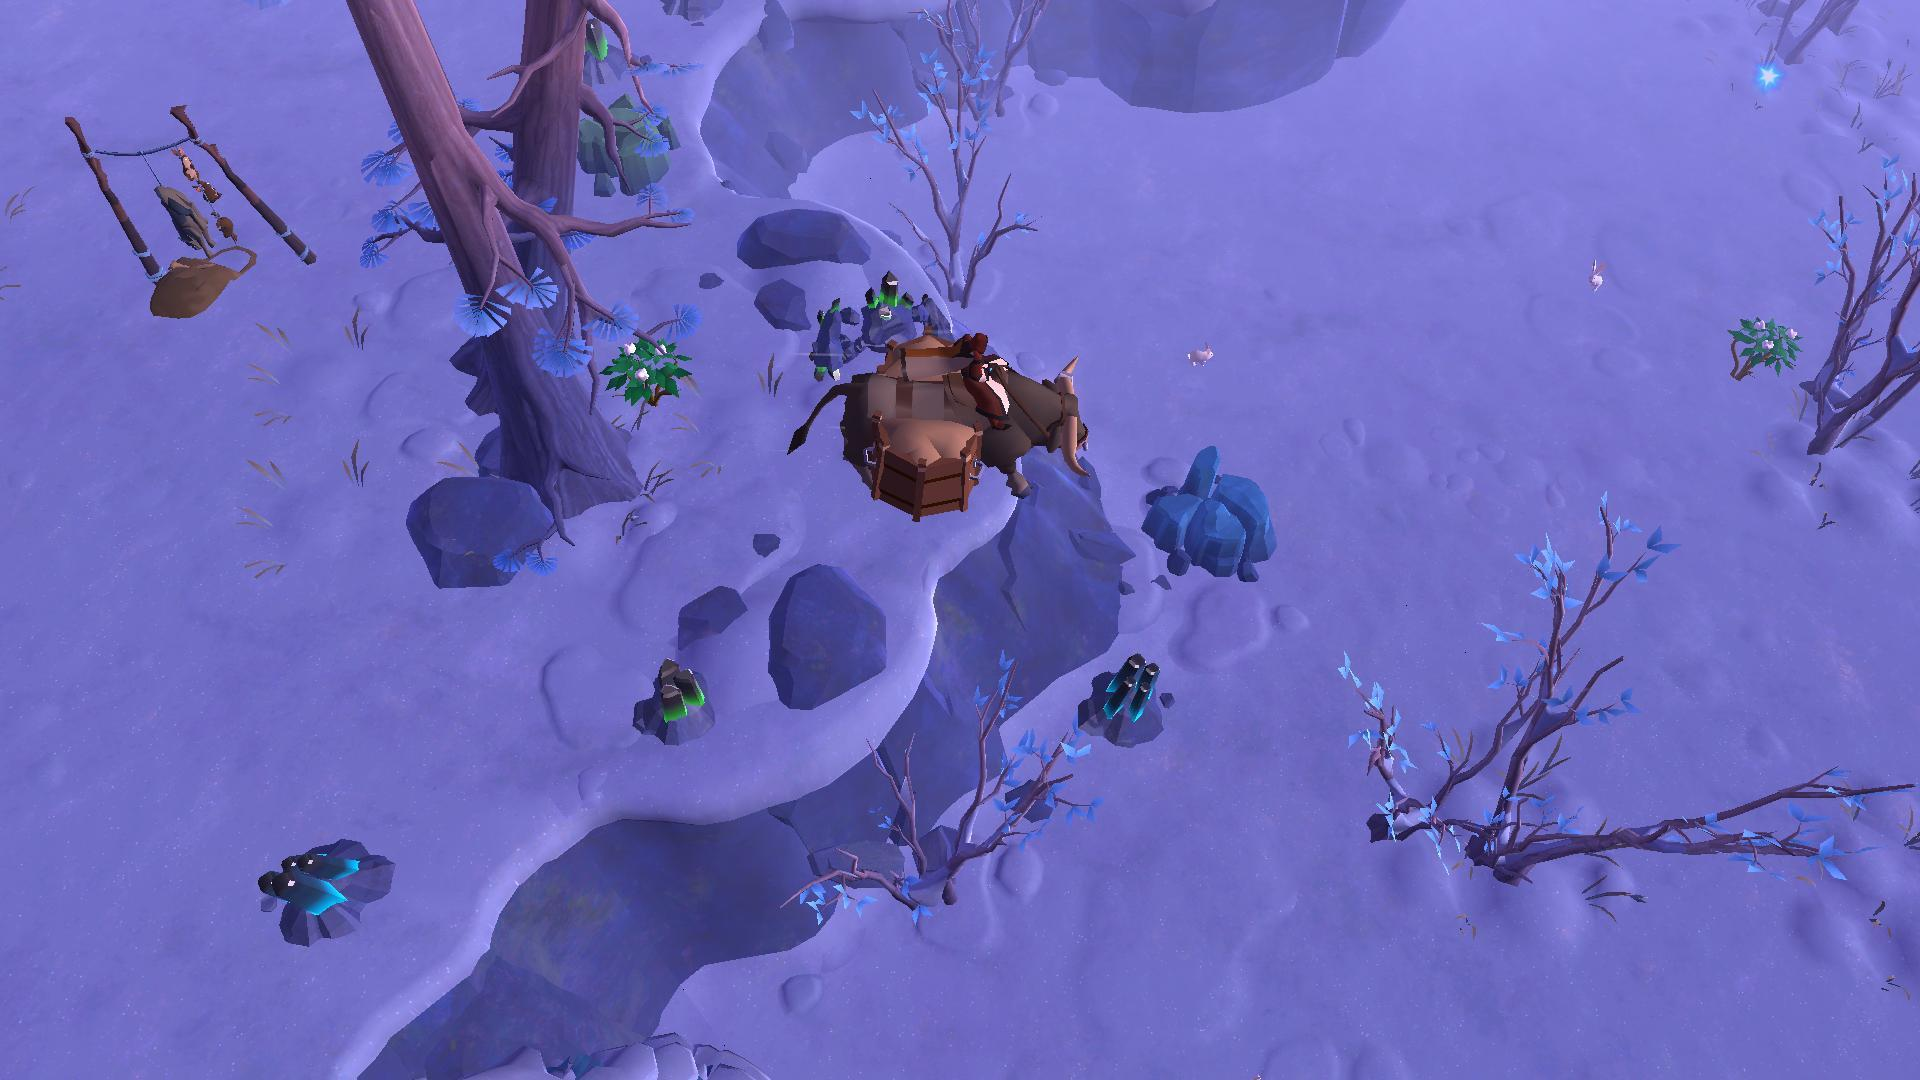fiber_t3: (597, 327, 694, 414), (1716, 306, 1799, 390)
ore_t3: (640, 659, 703, 732)
ore_t4: (257, 849, 363, 916), (1091, 646, 1159, 727)
rock_t3: (564, 80, 682, 200)
rock_t4: (1139, 446, 1291, 595)
